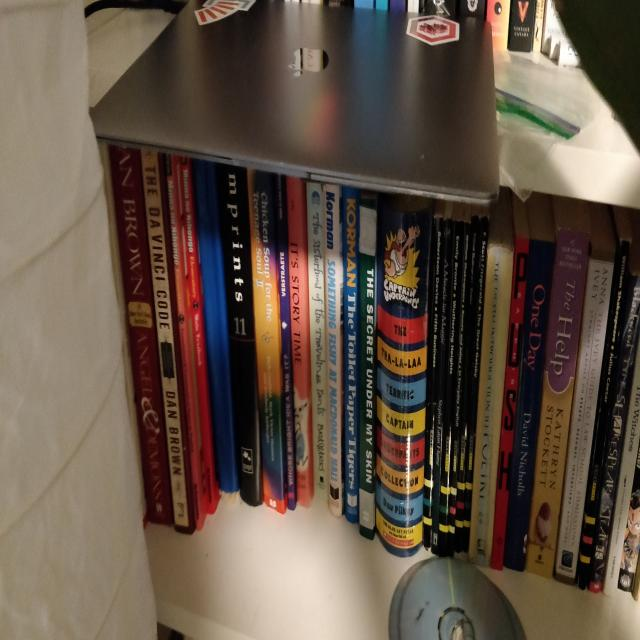book: (134, 135, 199, 543), (372, 183, 428, 557), (245, 151, 290, 525)
